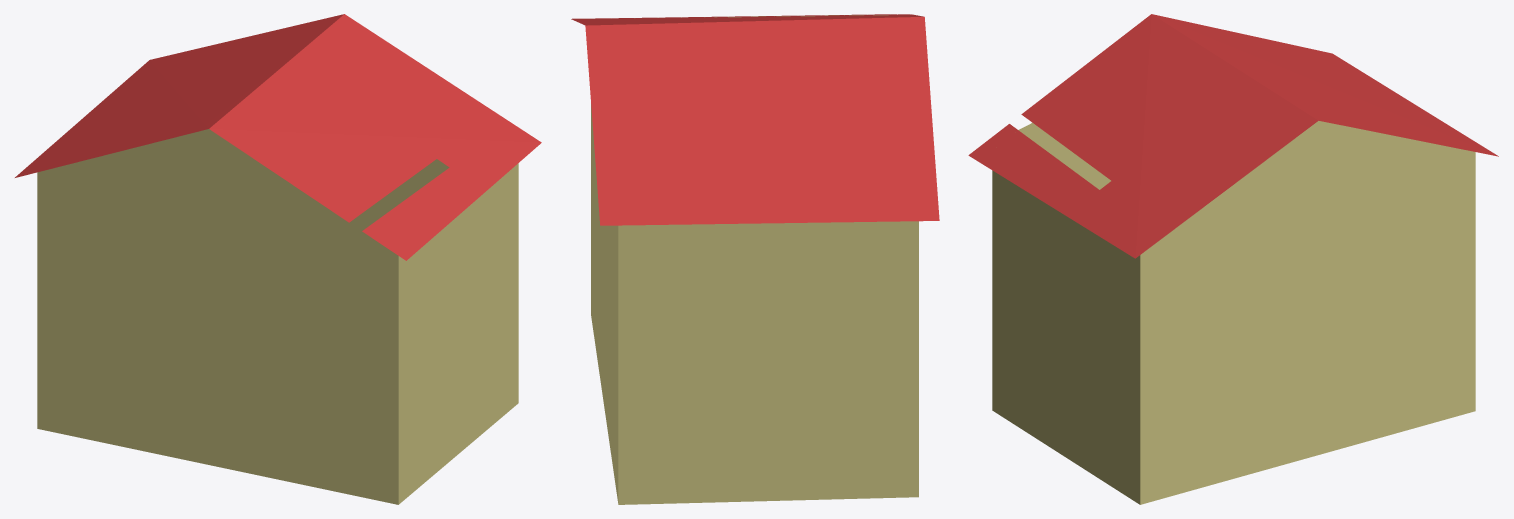
3 views of the same model, side by side, from view 1: azimuth 30°, elevation 25°; view 2: azimuth 150°, elevation 25°; view 3: azimuth 270°, elevation 25° (orthographic). The views are drawn at different scales.
Bounding box in the file's own units: 14.27 × 15.36 × 10.94.
